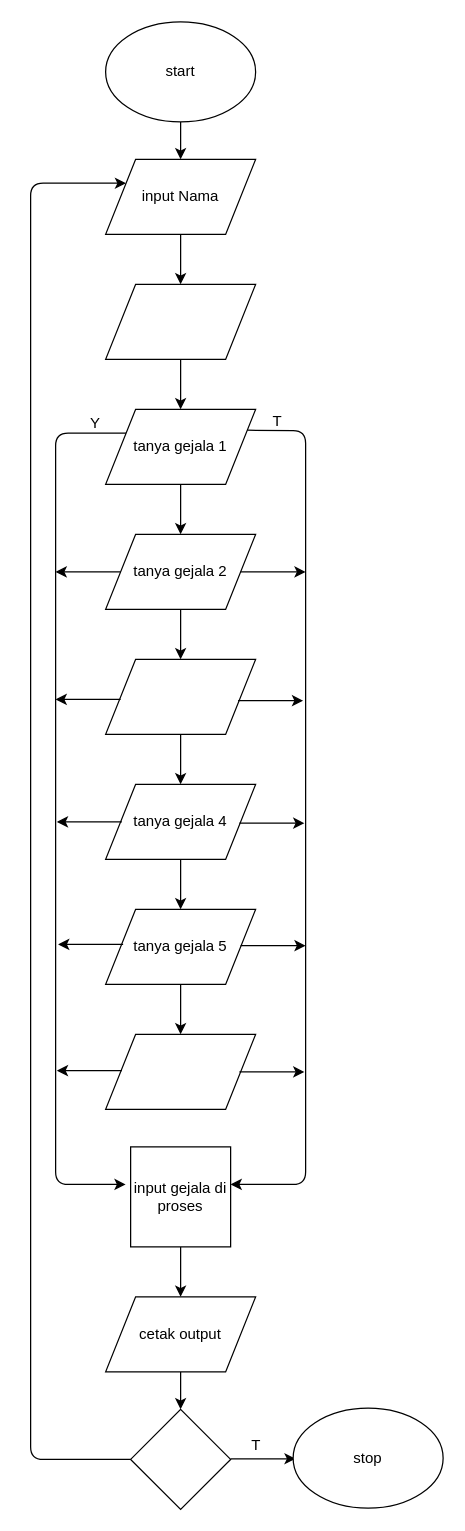
Image size: 465x1531. Some labels were removed from this diagram. The centre of each missing label's shape, as x and y in pixels:
"apa ingin di ulang" belongs at point (180, 1458).
"input umur" belongs at point (180, 321).
"tanya gejala 3" belongs at point (180, 696).
"tanya gejala 6" belongs at point (180, 1071).
